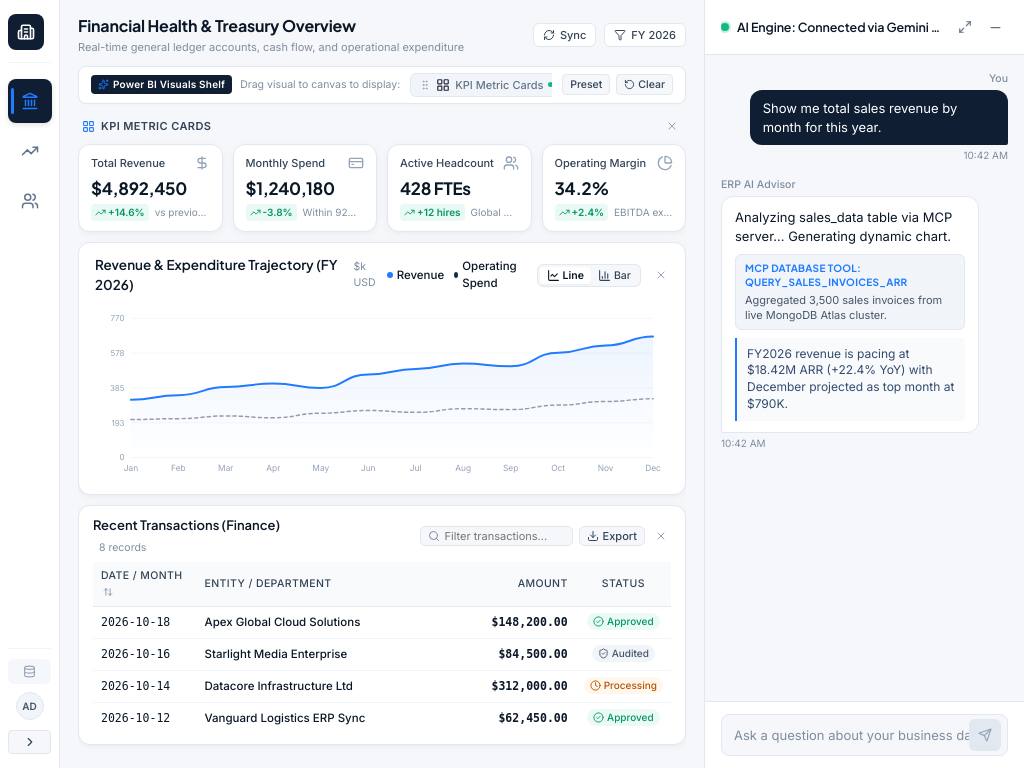
Scenario: App 3-Section Dashboard Integration › switches dashboard context between Finance, Sales, and HR dynamically
The width and height of the screenshot is (1024, 768).
Expected: the heading "Financial Health & Treasury Overview" is shown, 78,15 -> 356,36
Expected: the text "$4,892,450" is shown, 91,176 -> 187,198
Note: Click Sales button
Step 1. Click the tab named "Sales" → (30, 151), box 8,129 -> 52,173
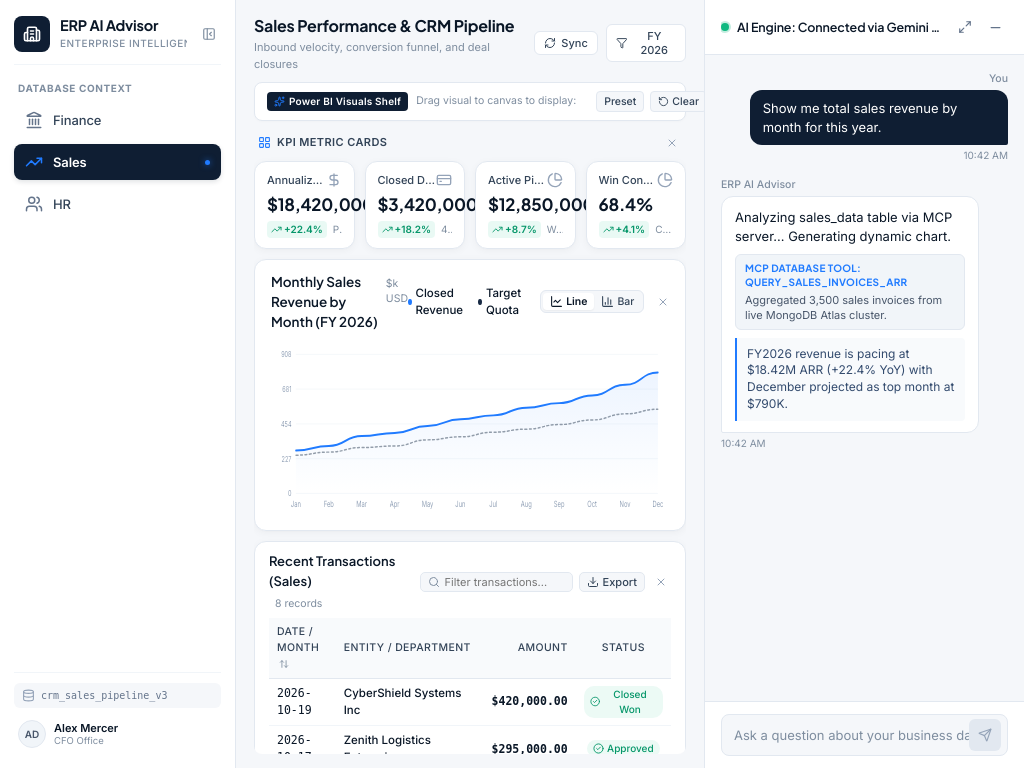
Expected: the heading "Sales Performance & CRM Pipeline" is shown, 254,14 -> 534,38
Expected: the text "$18,420,000" is shown, 267,192 -> 342,218
Note: Click HR button
Step 2. Click the tab "HR" → (118, 204), box 14,186 -> 221,222
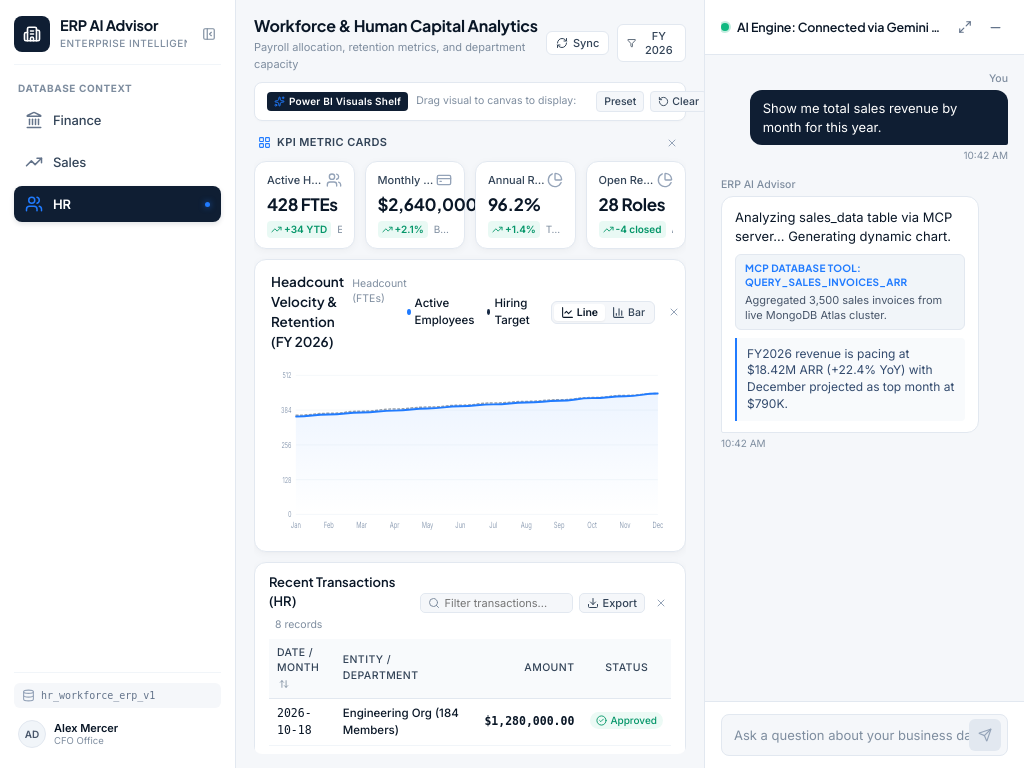
Expected: the heading "Workforce & Human Capital Analytics" is shown, 254,14 -> 546,38
Expected: the text "28 Roles" is shown, 598,192 -> 673,218
